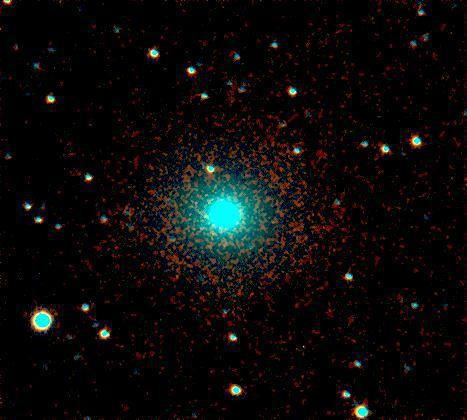star: (188, 203, 218, 233)
